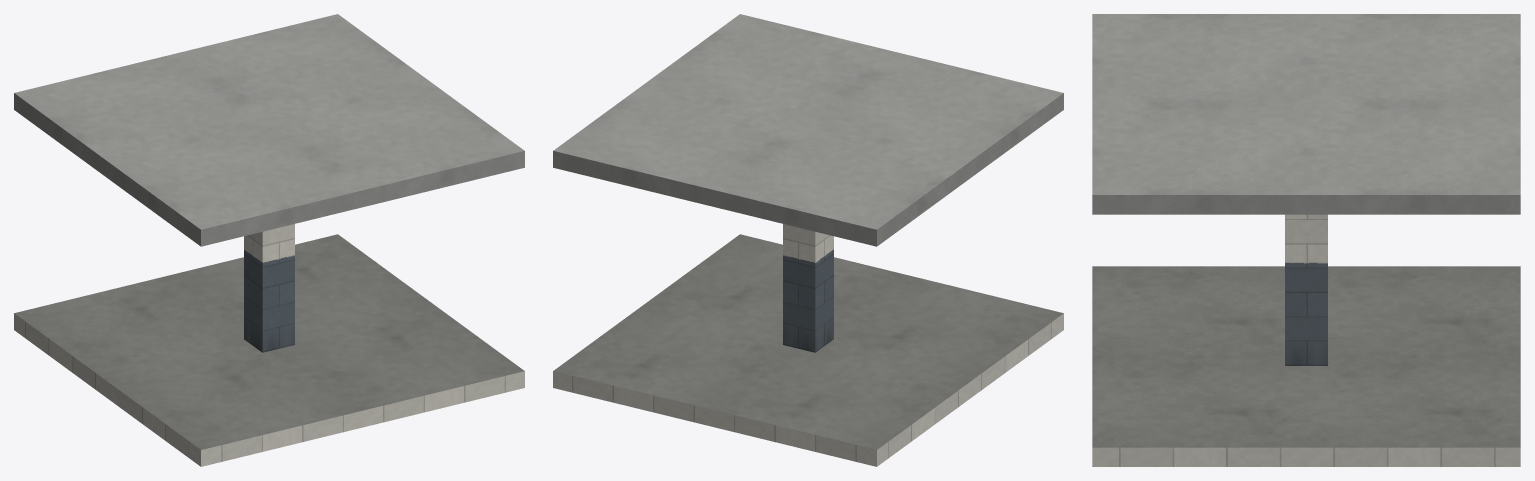
Rendered from Room_Basement_Column.glb.
3 renders of one model, left to right at view 1: azimuth 30°, elevation 25°; view 2: azimuth 150°, elevation 25°; view 3: azimuth 270°, elevation 25°, orthographic. The views are drawn at different scales.
Parts seen in each view (by area): view 1: Room_Basement_Column, Room_Basement_Column_Ceiling; view 2: Room_Basement_Column, Room_Basement_Column_Ceiling; view 3: Room_Basement_Column, Room_Basement_Column_Ceiling.
Boxes of the visible parts, box(x1,y1,x2,y2) form: Room_Basement_Column: box(14, 224, 524, 466); Room_Basement_Column_Ceiling: box(14, 14, 524, 246); Room_Basement_Column: box(553, 224, 1063, 466); Room_Basement_Column_Ceiling: box(553, 14, 1063, 246); Room_Basement_Column: box(1092, 214, 1520, 466); Room_Basement_Column_Ceiling: box(1092, 14, 1520, 214).
Bounding box in the file's own units: 4 × 2.8 × 4.
5 materials, 3 textured.
